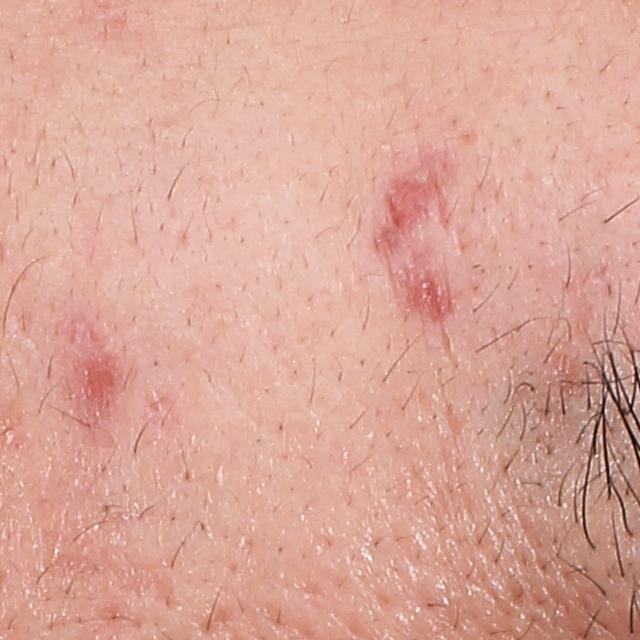atrophic_scar: (195, 600, 238, 638)
